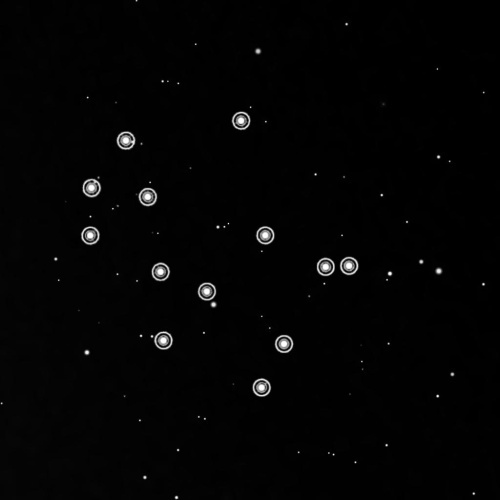gemini: (68, 101, 364, 399)
